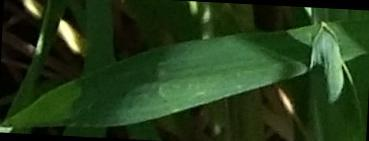Wheat: (184, 43, 235, 92), (128, 62, 180, 109), (238, 36, 276, 80), (64, 96, 126, 121), (280, 33, 313, 68), (30, 107, 61, 126)
